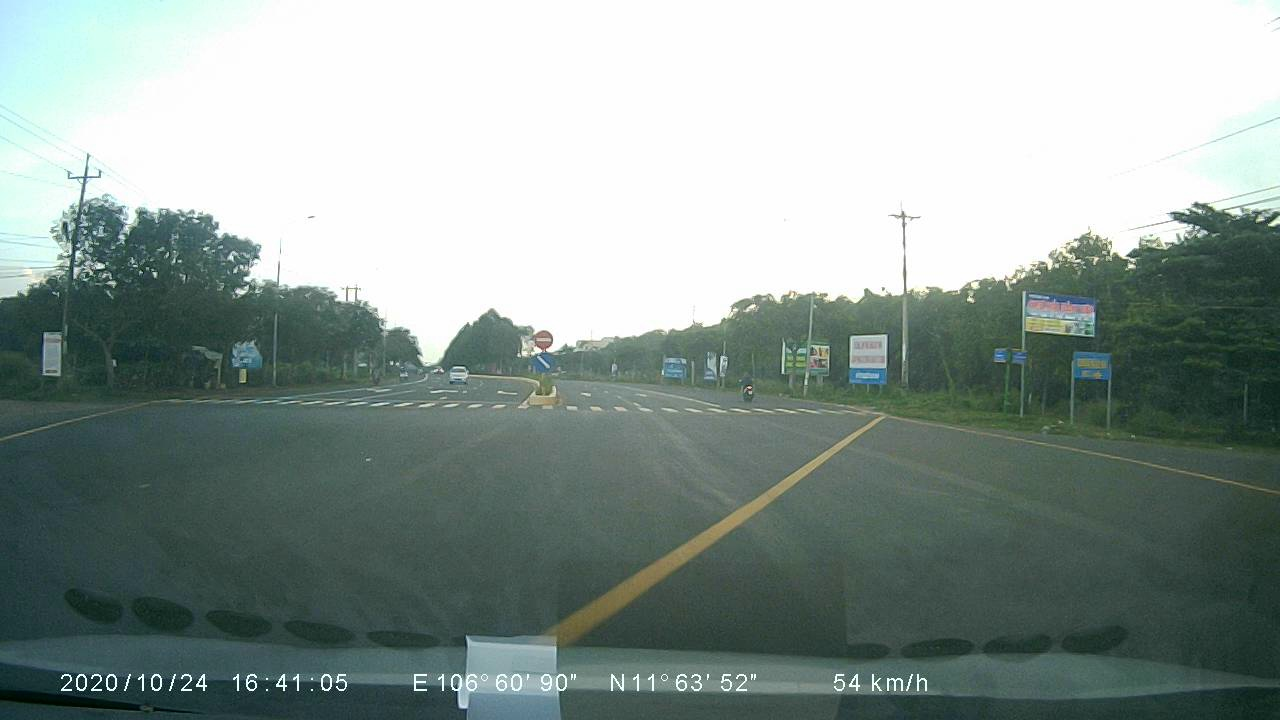Cam di nguoc chieu: (533, 329, 556, 352)
Huong di phai re phai: (529, 349, 557, 372)
